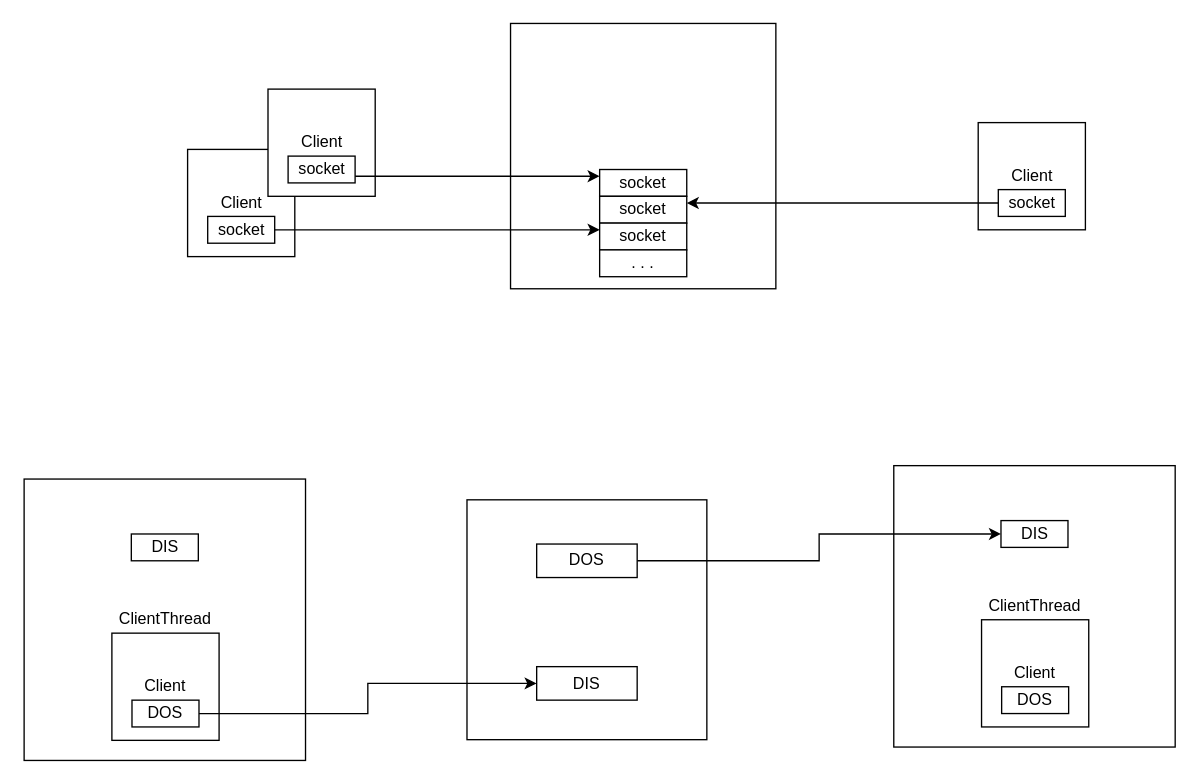
This 1198x784 diagram has some shape labels left out. Here are the shapes that lost their labels. From the top down, the box of each, then its label:
(509, 22, 776, 289): Server
(466, 498, 707, 740): ServerThread
